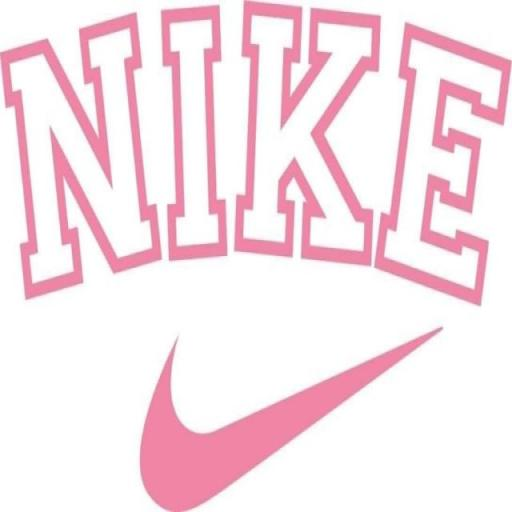Nike: (122, 313, 454, 510)
